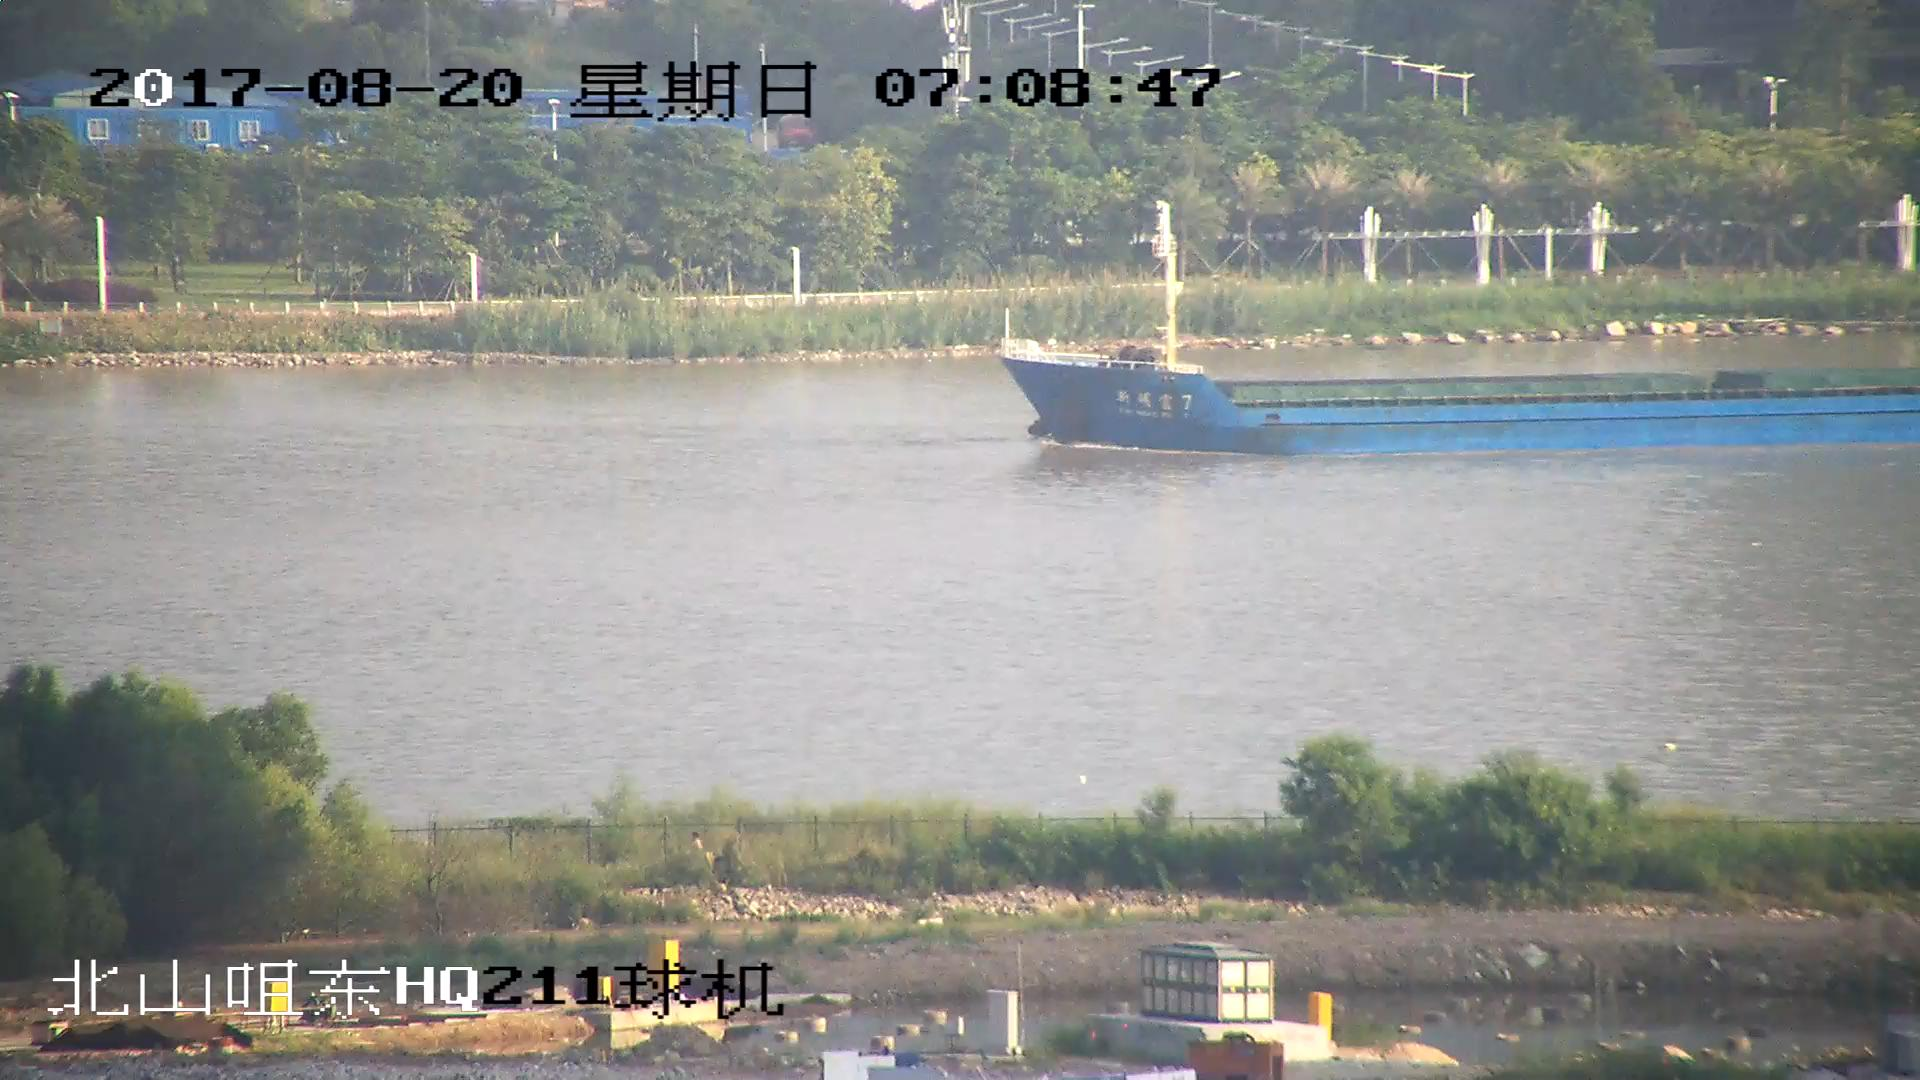general cargo ship: (993, 228, 1920, 460)
